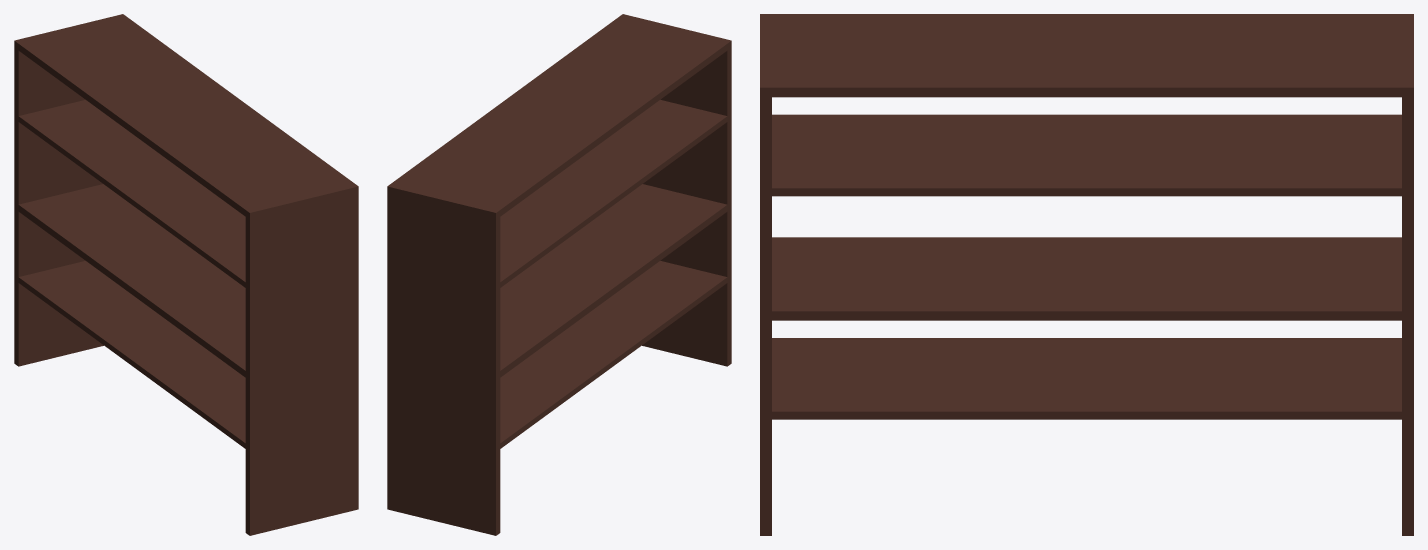
The model's file is ShelfTall.fbx.
3 views of the same model, side by side, from view 1: azimuth 30°, elevation 25°; view 2: azimuth 150°, elevation 25°; view 3: azimuth 270°, elevation 25° (orthographic). The views are drawn at different scales.
Visible parts, largest first — view 1: ShelfBig; view 2: ShelfBig; view 3: ShelfBig.
Part boxes in pixels (x1,y1,x2,y2): ShelfBig: (14,14,358,535); ShelfBig: (387,14,731,535); ShelfBig: (760,14,1413,535).
Bounding box in the file's own units: 0.6974 × 1.98 × 2.61.
